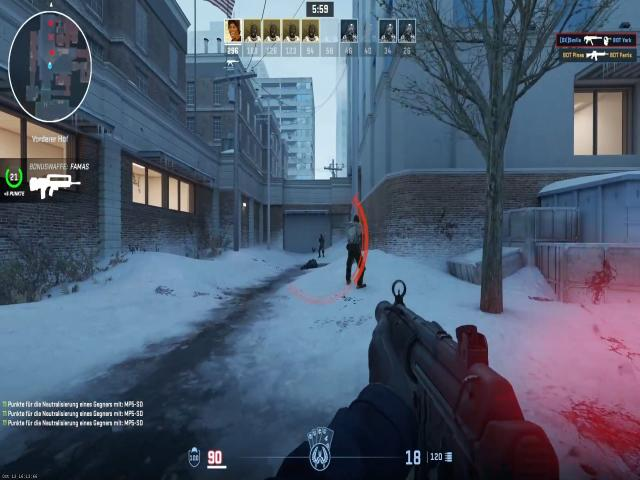CT: (318, 233, 326, 256)
CT-Head: (320, 233, 326, 240)
Dead: (298, 258, 319, 275)
T: (346, 213, 364, 247)
T-Head: (350, 212, 360, 227)
